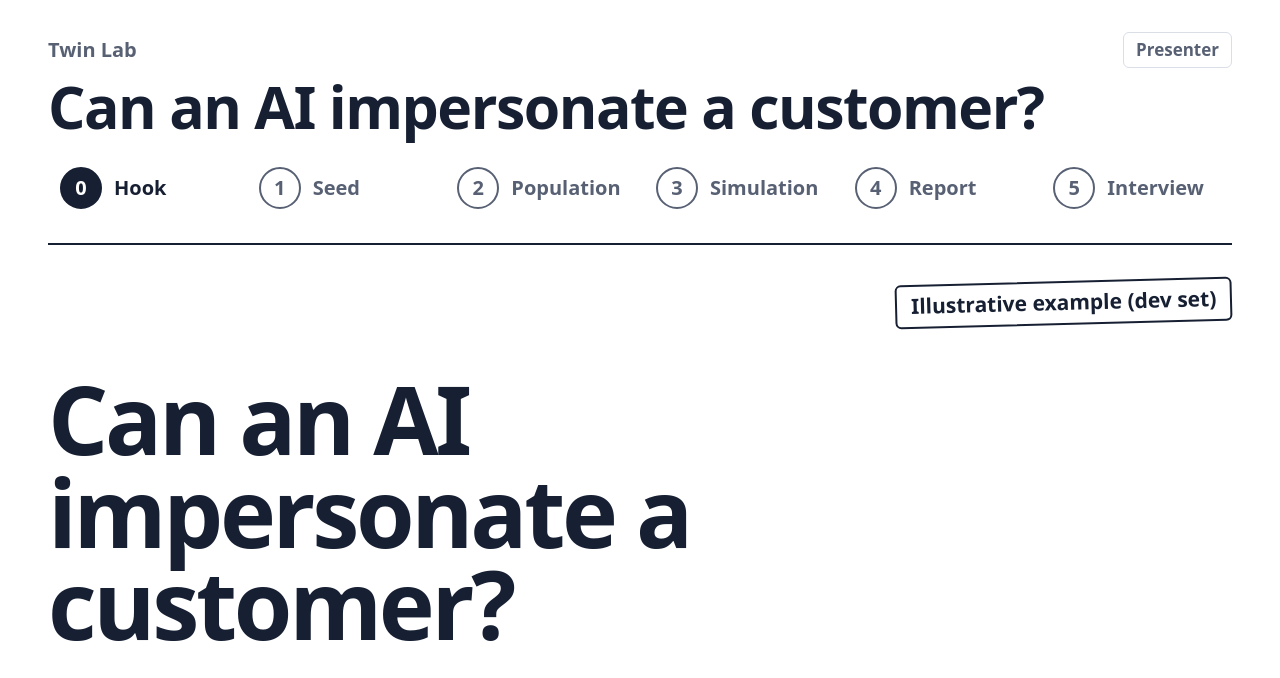
Step 1 Seed › marks the synthetic sample as fake
What coordinates should you click on to do the following:
click the button "1 Seed"
I would click on:
 (342, 188)
Its box is [247, 157, 437, 219].
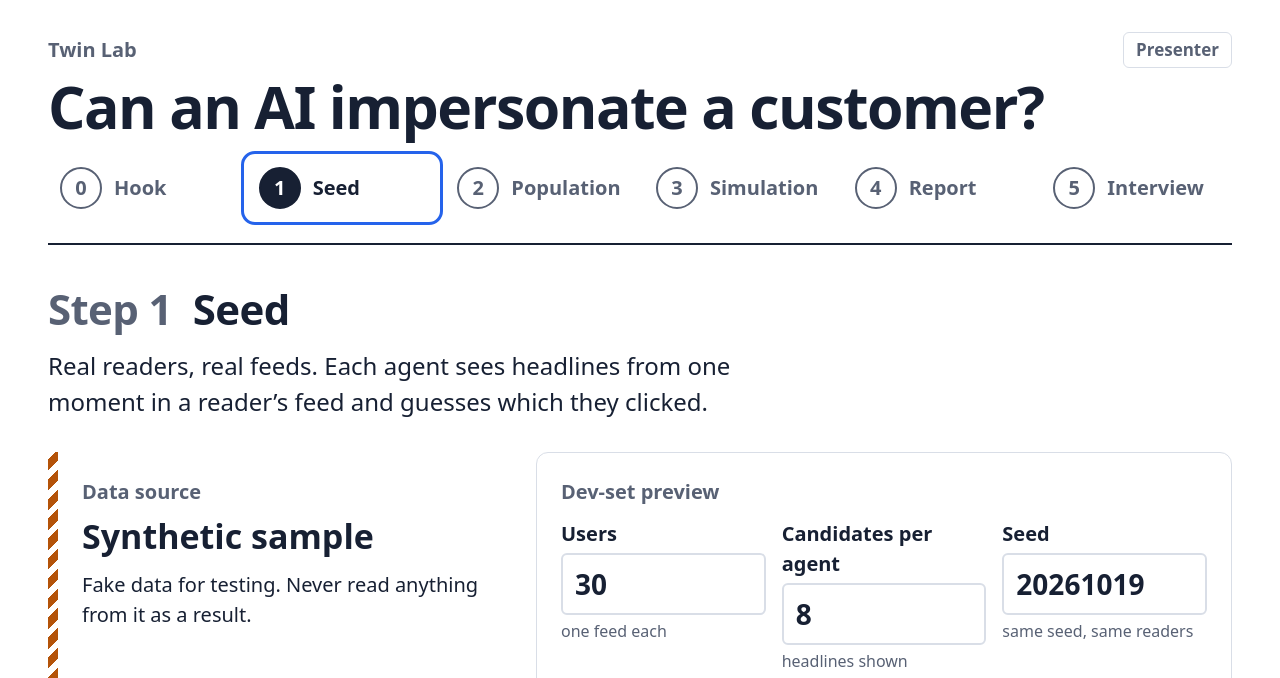
Check: the heading "Step 1 Seed" is shown, box [48, 280, 290, 337]
Check: the text "Synthetic sample" is shown, box [82, 513, 374, 559]
Check: the text "Fake data" is shown, box [82, 571, 478, 628]
